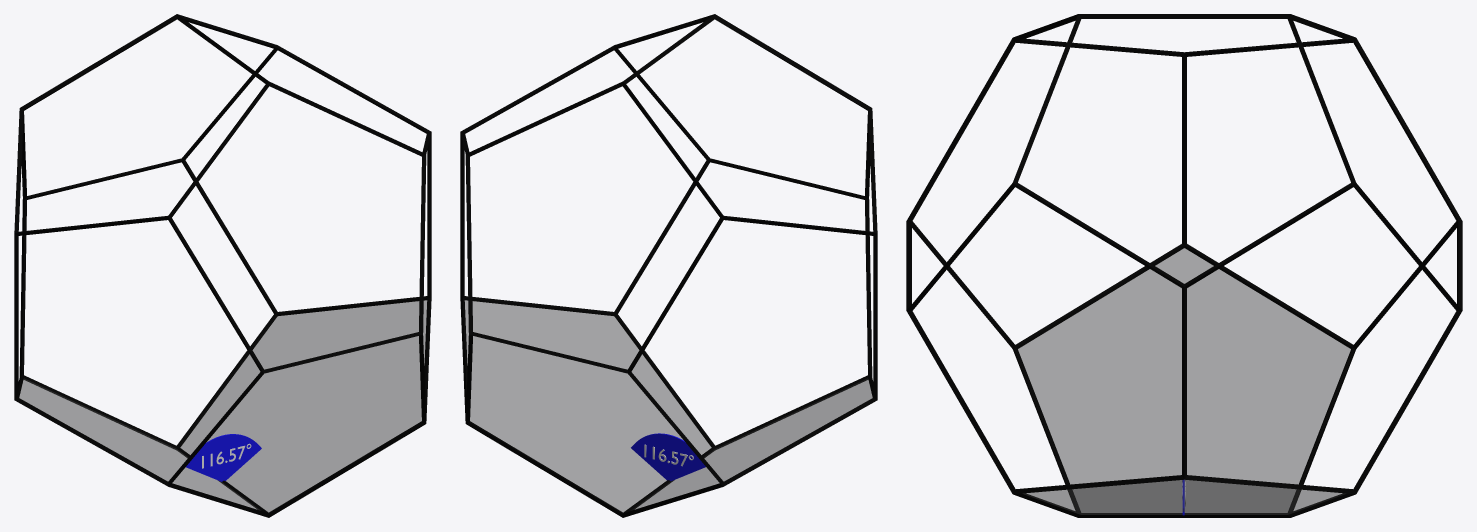
File: Ang_diedro.glb
3 renders of one model, left to right at view 1: azimuth 30°, elevation 25°; view 2: azimuth 150°, elevation 25°; view 3: azimuth 270°, elevation 25°, orthographic. The views are drawn at different scales.
Visible parts, largest first — view 1: grises, aristas, Circle; view 2: grises, aristas, Circle; view 3: grises, aristas.
Boxes of the visible parts, x1=… form: grises: x1=19, y1=300, x2=426, y2=512; aristas: x1=14, y1=14, x2=431, y2=517; Circle: x1=186, y1=434, x2=261, y2=481; grises: x1=465, y1=300, x2=872, y2=512; aristas: x1=460, y1=14, x2=877, y2=517; Circle: x1=631, y1=433, x2=705, y2=481; grises: x1=1018, y1=248, x2=1350, y2=514; aristas: x1=906, y1=14, x2=1462, y2=517.
Bounding box in the file's own units: 1.89 × 1.89 × 1.89.
